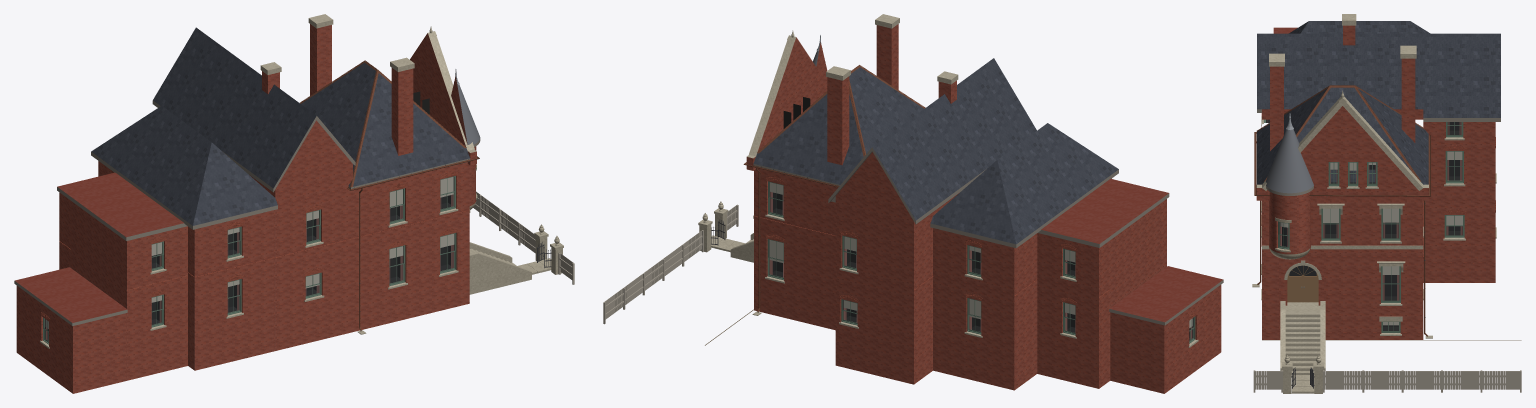
Rendered from high_house_2021_prairie__as_mapped_1904.glb.
3 views of the same model, side by side, from view 1: azimuth 30°, elevation 25°; view 2: azimuth 150°, elevation 25°; view 3: azimuth 270°, elevation 25° (orthographic).
Visible parts, largest first — view 1: high_house_2021_prairie__as_mapped_1904; view 2: high_house_2021_prairie__as_mapped_1904; view 3: high_house_2021_prairie__as_mapped_1904.
Part boxes in pixels (<box>): high_house_2021_prairie__as_mapped_1904: <box>14,14,574,393</box>; high_house_2021_prairie__as_mapped_1904: <box>603,14,1223,393</box>; high_house_2021_prairie__as_mapped_1904: <box>1252,14,1521,393</box>.
Bounding box in the file's own units: 33.3 × 16.17 × 15.45.
28 materials, 16 textured.
